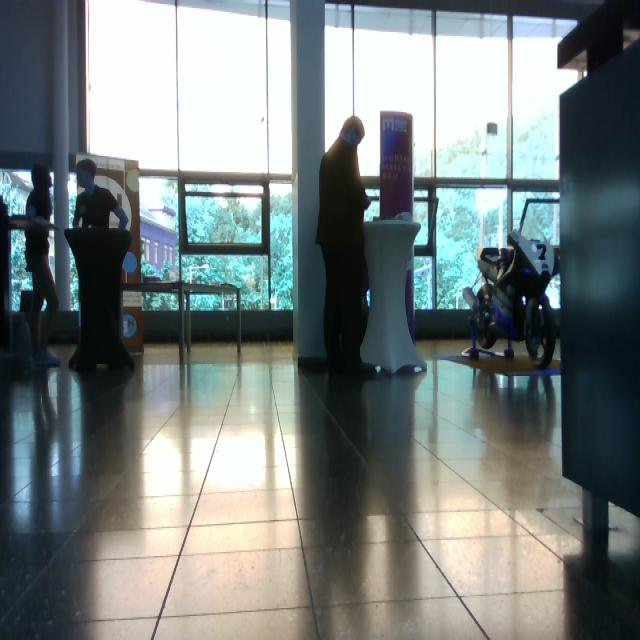light bulb: (379, 110, 414, 220), (340, 1, 365, 146), (341, 116, 365, 145), (122, 252, 138, 273)
motorcycle: (462, 197, 561, 372)
person: (316, 116, 378, 377), (8, 164, 61, 368)
table: (359, 216, 429, 380)
tiled floor: (2, 336, 638, 638)
